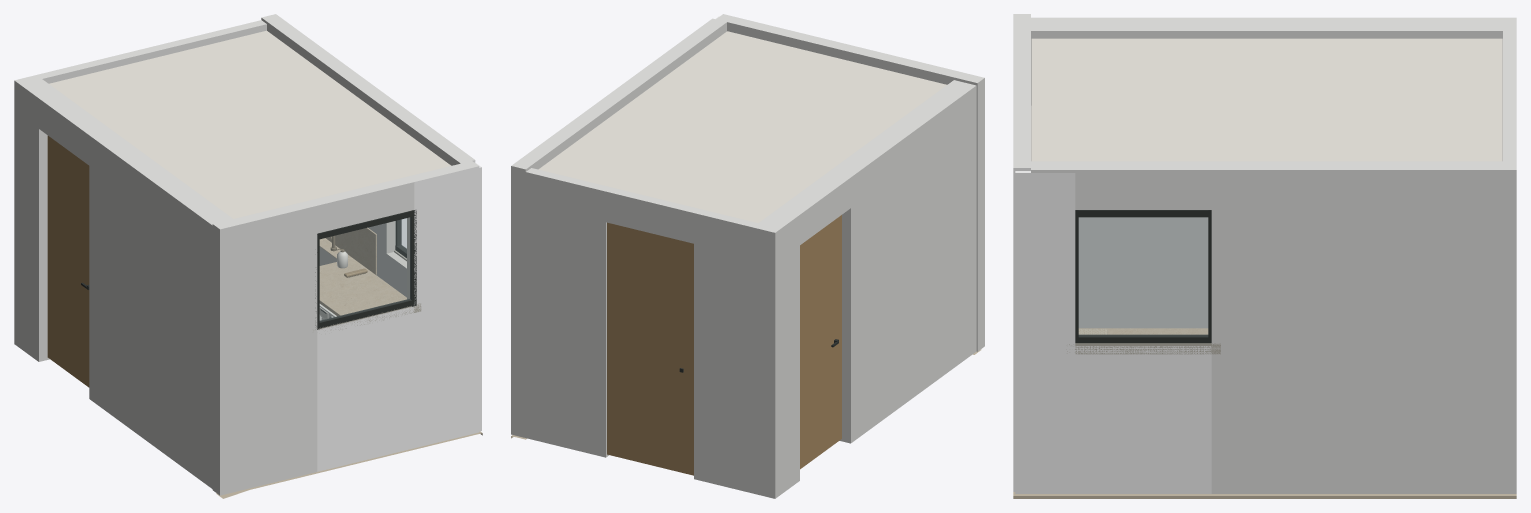
3 views of the same model, side by side, from view 1: azimuth 30°, elevation 25°; view 2: azimuth 150°, elevation 25°; view 3: azimuth 270°, elevation 25° (orthographic). The views are drawn at different scales.
Visible parts, largest first — view 1: Utility 01 | ivory ceiling finish.001, Proposal | Garage east separation pier 0.001, Proposal | New wing south pier 1.001, Proposal | New wing south end pier.001, Proposal | New wing south sill 1.001, Proposal | Garage east separation door 0 leaf.001, Proposal | Garage east separation end pier.001, Proposal | New wing south window 1 glass.001, Proposal | New wing south head 1.001, Proposal | Storey edge closure | east main wing.001, Utility 01 | limestone worktop south folding section.002, Proposal | Garage east separation head 0.001 (+11 smaller); view 2: Utility 01 | ivory ceiling finish.001, Proposal | Garage east separation pier 0.001, Proposal | Boot utility partition end pier.001, Proposal | Boot utility inward door leaf.001, Proposal | Boot utility partition pier 0.001, Proposal | Garage east separation end pier.001, Proposal | Garage east separation door 0 leaf.001, Proposal | New wing east pier 1.001, Proposal | New wing south pier 1.001, Proposal | Storey edge closure | east main wing.001, Proposal | Boot utility partition head 0.001, Proposal | Garage east separation head 0.001 (+2 smaller); view 3: Proposal | New wing east pier 1.001, Utility 01 | ivory ceiling finish.001, Proposal | Garage east separation pier 0.001, Proposal | New wing east sill 0.001, Proposal | New wing east pier 0.001, Proposal | New wing east window 0 glass.001, Proposal | Storey edge closure | east main wing.001, Proposal | New wing east head 0.001, Proposal | Garage east separation head 0.001, Proposal revision | Circular driveway - tarmac.001, Proposal | New wing south end pier.001, Proposal | New wing east window cill 0.001 (+8 smaller).
Boxes of the visible parts, x1,y1,x2,y2 form: Utility 01 | ivory ceiling finish.001: [49, 30, 451, 218]; Proposal | Garage east separation pier 0.001: [89, 130, 232, 488]; Proposal | New wing south pier 1.001: [212, 200, 317, 495]; Proposal | New wing south end pier.001: [407, 161, 479, 448]; Proposal | New wing south sill 1.001: [317, 306, 414, 471]; Proposal | Garage east separation door 0 leaf.001: [47, 135, 89, 387]; Proposal | Garage east separation end pier.001: [14, 75, 60, 361]; Proposal | New wing south window 1 glass.001: [320, 217, 410, 321]; Proposal | New wing south head 1.001: [310, 177, 414, 233]; Proposal | Storey edge closure | east main wing.001: [261, 14, 475, 163]; Utility 01 | limestone worktop south folding section.002: [319, 258, 406, 316]; Proposal | Garage east separation head 0.001: [39, 93, 111, 165]; Utility 01 | ivory ceiling finish.001: [538, 31, 946, 223]; Proposal | Garage east separation pier 0.001: [829, 80, 976, 443]; Proposal | Boot utility partition end pier.001: [514, 168, 611, 457]; Proposal | Boot utility inward door leaf.001: [607, 222, 693, 475]; Proposal | Boot utility partition pier 0.001: [694, 209, 757, 493]; Proposal | Garage east separation end pier.001: [752, 209, 799, 498]; Proposal | Garage east separation door 0 leaf.001: [800, 215, 841, 469]; Proposal | New wing east pier 1.001: [511, 80, 652, 437]; Proposal | New wing south pier 1.001: [879, 54, 984, 351]; Proposal | Storey edge closure | east main wing.001: [511, 18, 726, 171]; Proposal | Boot utility partition head 0.001: [606, 187, 698, 243]; Proposal | Garage east separation head 0.001: [778, 172, 850, 244]; Proposal | New wing east pier 1.001: [1211, 173, 1516, 493]; Utility 01 | ivory ceiling finish.001: [1031, 38, 1502, 161]; Proposal | Garage east separation pier 0.001: [1031, 17, 1334, 328]; Proposal | New wing east sill 0.001: [1075, 346, 1211, 493]; Proposal | New wing east pier 0.001: [1015, 171, 1075, 493]; Proposal | New wing east window 0 glass.001: [1079, 217, 1207, 335]; Proposal | Storey edge closure | east main wing.001: [1031, 161, 1516, 172]; Proposal | New wing east head 0.001: [1075, 173, 1211, 209]; Proposal | Garage east separation head 0.001: [1334, 17, 1456, 38]; Proposal revision | Circular driveway - tarmac.001: [1013, 492, 1516, 498]; Proposal | New wing south end pier.001: [1013, 129, 1030, 491]; Proposal | New wing east window cill 0.001: [1066, 343, 1220, 354].
Size of the model in its own units: 2.71 by 2.66 by 3.7.
19 materials, 3 textured.
